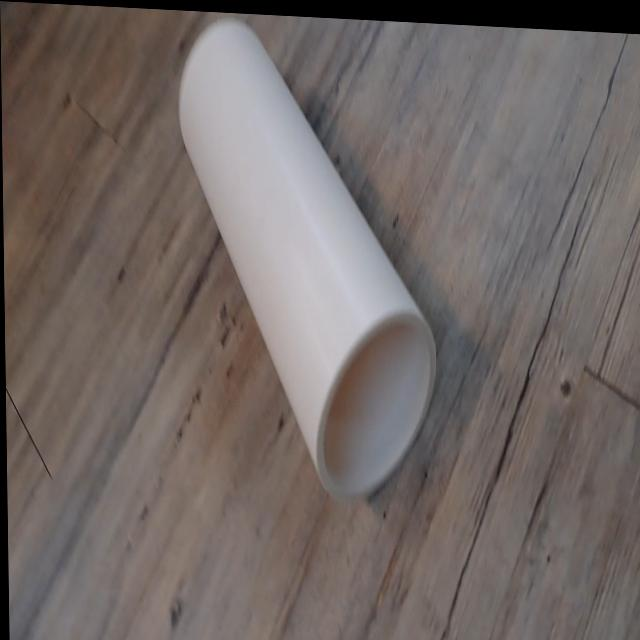CORAL: (166, 12, 443, 526)
